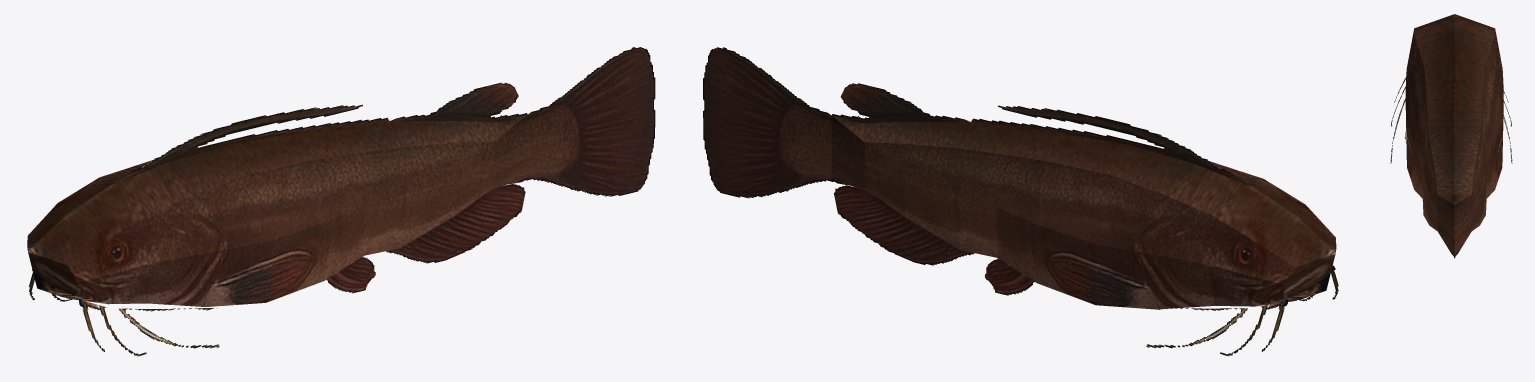
File: Zorbatet.fbx
3 renders of one model, left to right at view 1: azimuth 30°, elevation 25°; view 2: azimuth 150°, elevation 25°; view 3: azimuth 270°, elevation 25°, orthographic. The views are drawn at different scales.
Parts seen in each view (by area): view 1: Catfish; view 2: Catfish; view 3: Catfish.
Part boxes in pixels (box(x1,y1,x2,y2)): Catfish: box(27, 47, 655, 356); Catfish: box(703, 47, 1338, 356); Catfish: box(1390, 14, 1512, 258).
Bounding box in the file's own units: 183 × 57.61 × 42.41.
1 material, 1 textured.
